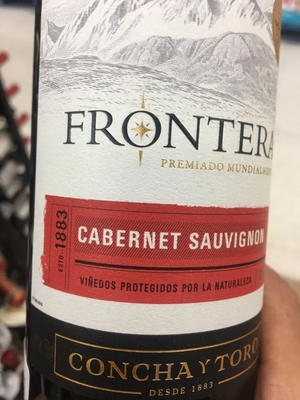frontera cabernet sauvignon: (29, 1, 274, 400)
